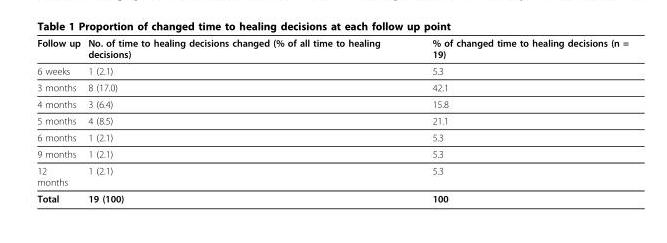table: (36, 36, 628, 203)
table column: (83, 36, 405, 203), (405, 36, 628, 203), (36, 36, 83, 203)
table column header: (36, 36, 628, 62)
table row: (36, 162, 628, 189), (36, 36, 628, 62), (36, 78, 628, 95), (36, 95, 628, 112), (36, 128, 628, 145), (36, 145, 628, 162), (36, 62, 628, 78), (36, 112, 628, 128), (36, 189, 628, 203)
